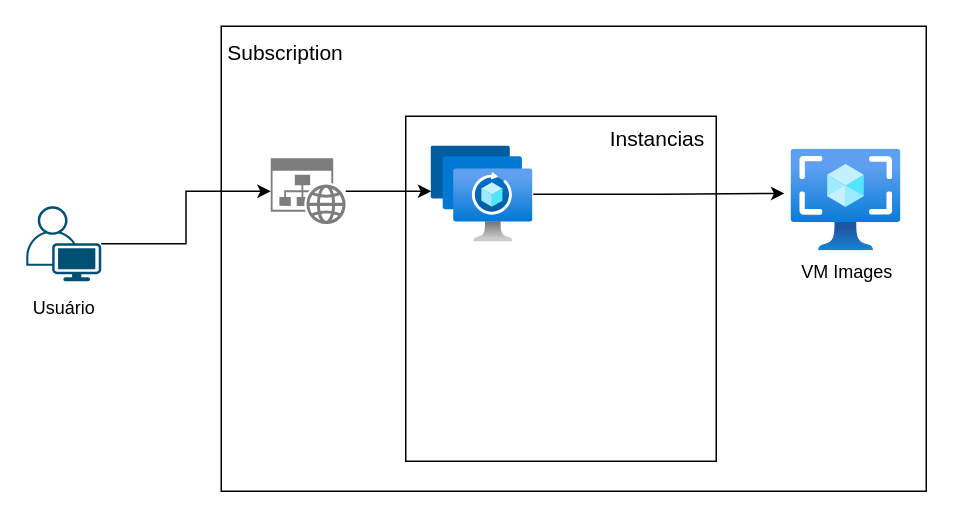
Some shapes in this 953 by 518 pixel diagram are drawn without their labels. The shapes that lost their labels are listed below. From the top down, each one's centre as x and y in pixels, then its label:
At point (307, 191): "Postcard".
At point (481, 194): "ScaleSet".
